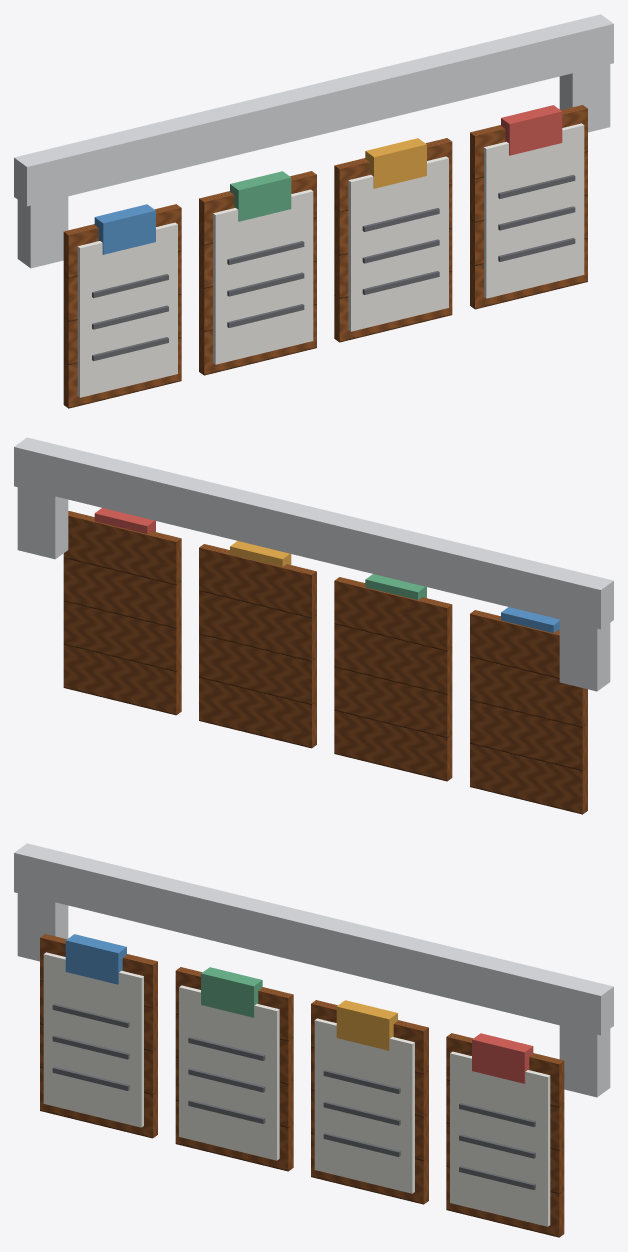
Rendered from boarding-kennels-and-cattery-boarding-kennels-and-catt-f921aa5f__35567.glb.
3 views of the same model, one above another, from view 1: azimuth 30°, elevation 25°; view 2: azimuth 150°, elevation 25°; view 3: azimuth 330°, elevation 25° (orthographic).
Parts seen in each view (by area): view 1: boarding-kennels-and-cattery-record-clipboard-rack; view 2: boarding-kennels-and-cattery-record-clipboard-rack; view 3: boarding-kennels-and-cattery-record-clipboard-rack.
Part boxes in pixels (box(x1,y1,x2,y2)): boarding-kennels-and-cattery-record-clipboard-rack: box(14, 14, 613, 408); boarding-kennels-and-cattery-record-clipboard-rack: box(14, 437, 613, 814); boarding-kennels-and-cattery-record-clipboard-rack: box(14, 843, 613, 1237).
Bounding box in the file's own units: 0.78 × 0.31 × 0.062.
Materials: 8 (1 with a texture image).
